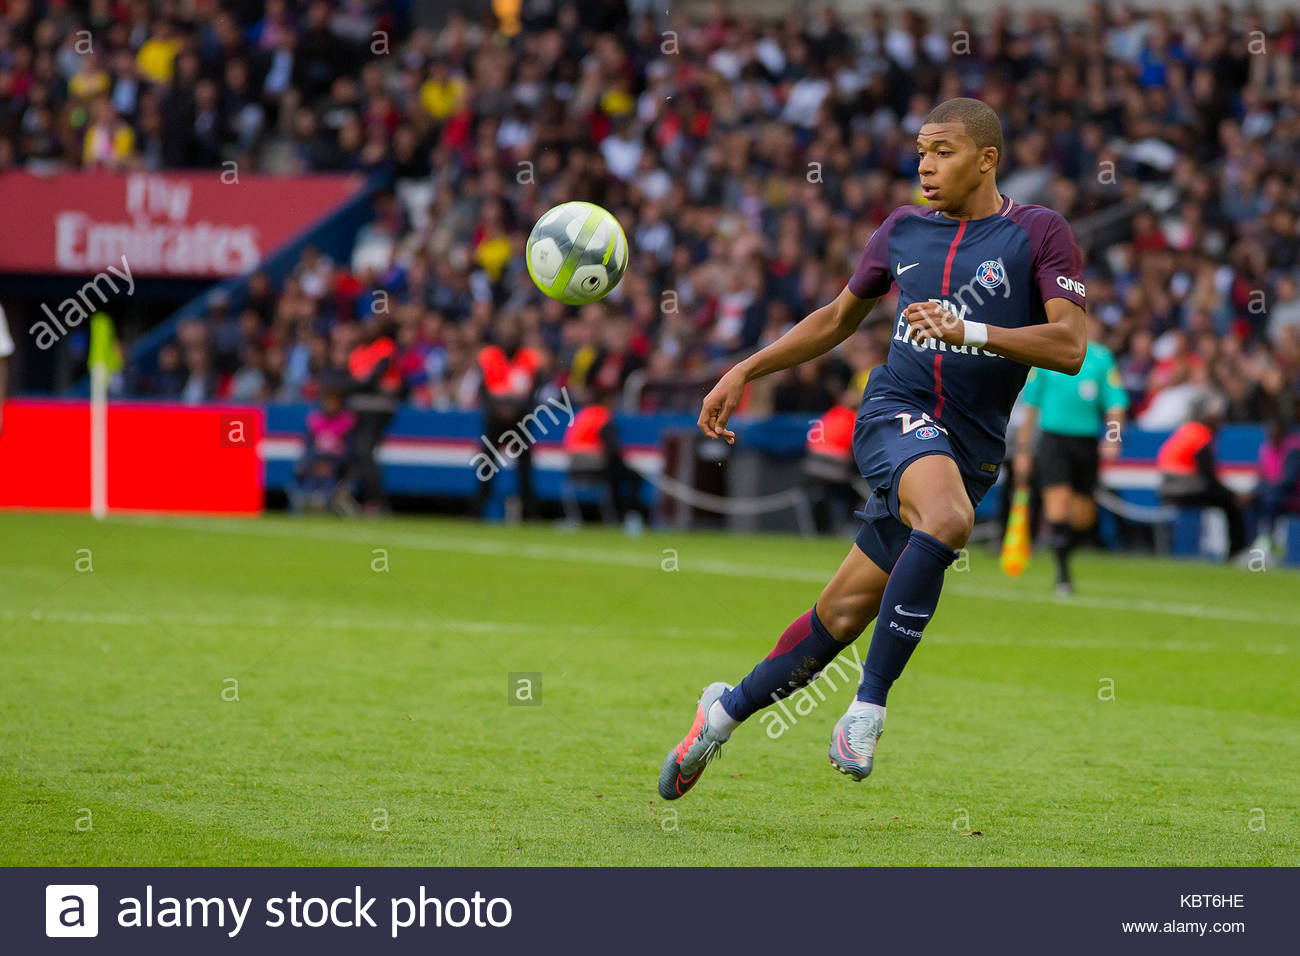soccer player: (656, 89, 1093, 801)
soccerball: (515, 197, 627, 312)
